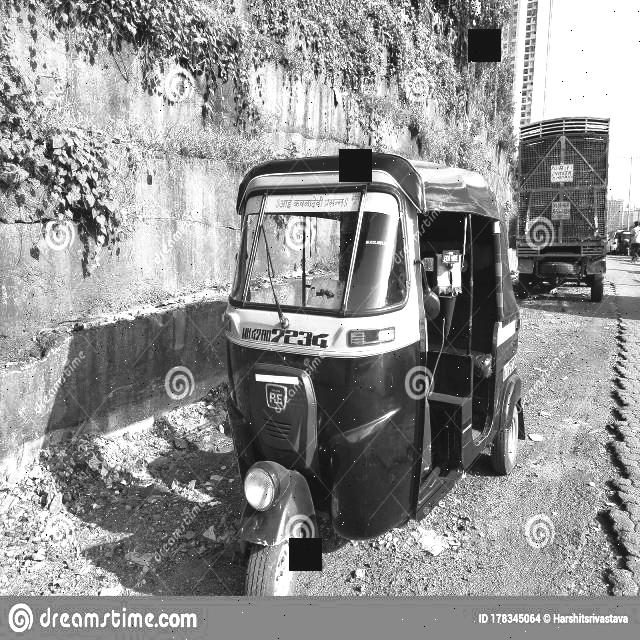Auto-Rickshaw: (218, 139, 539, 597)
